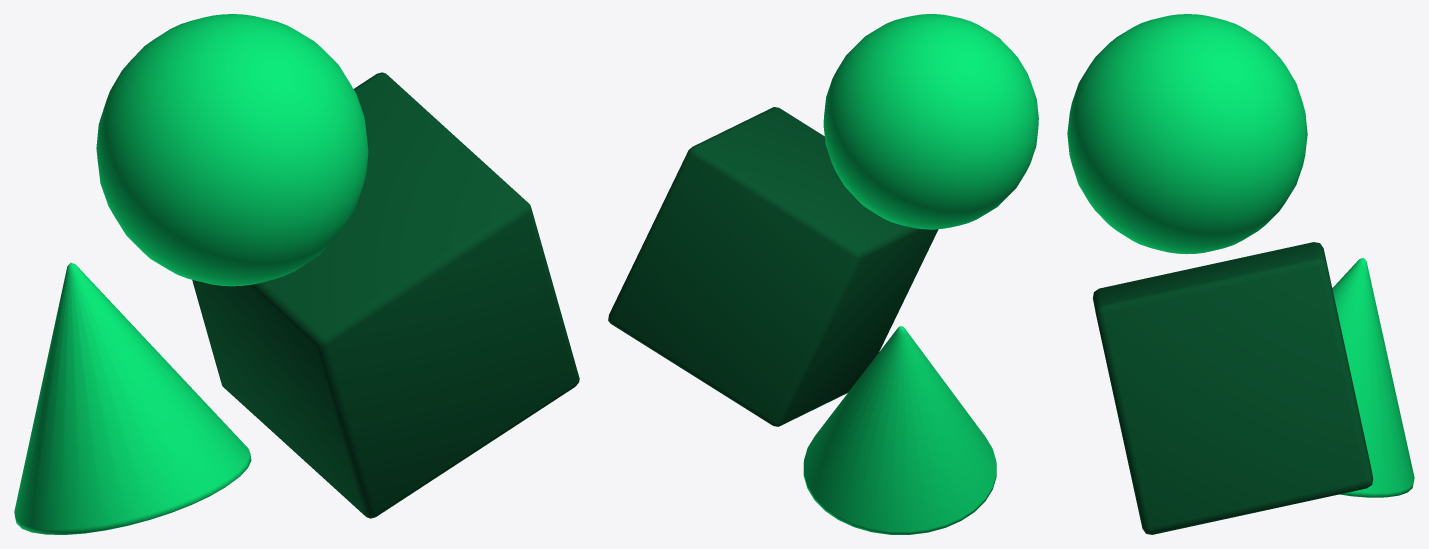
File: icon_immersive.glb
3 renders of one model, left to right at view 1: azimuth 30°, elevation 25°; view 2: azimuth 150°, elevation 25°; view 3: azimuth 270°, elevation 25°, orthographic. The views are drawn at different scales.
Parts seen in each view (by area): view 1: icon_im; view 2: icon_im; view 3: icon_im.
Boxes of the visible parts, x1,y1,x2,y2 form: icon_im: [14, 14, 579, 534]; icon_im: [608, 14, 1038, 534]; icon_im: [1067, 14, 1414, 534].
Size of the model in its own units: 0.2411 by 0.2698 by 0.1788.
